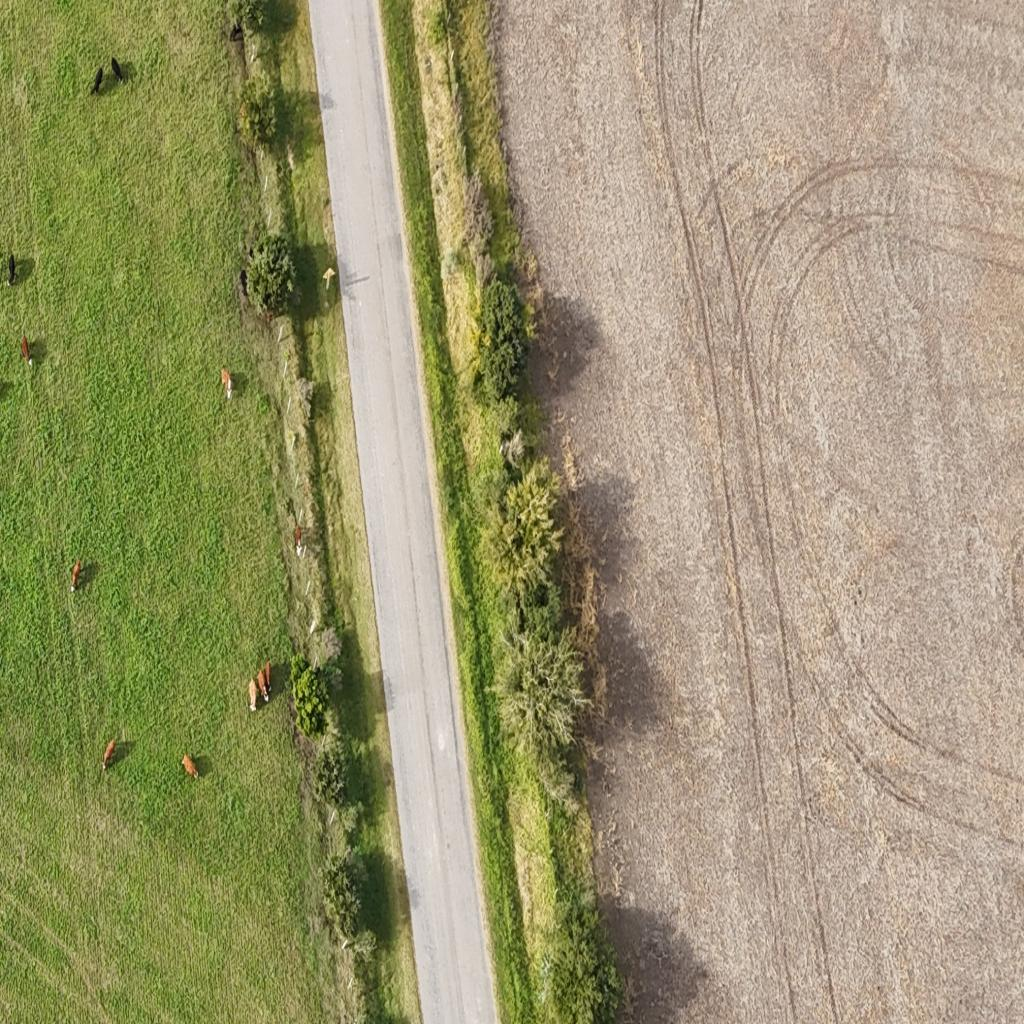cow: (228, 20, 245, 53), (88, 68, 104, 98), (101, 740, 115, 774), (182, 753, 198, 782), (113, 57, 127, 87), (6, 253, 18, 287), (222, 368, 233, 404), (264, 656, 275, 692), (22, 336, 32, 371), (259, 666, 268, 702), (71, 560, 81, 592), (294, 526, 304, 558), (249, 679, 258, 713), (239, 269, 248, 298), (264, 310, 273, 323)
